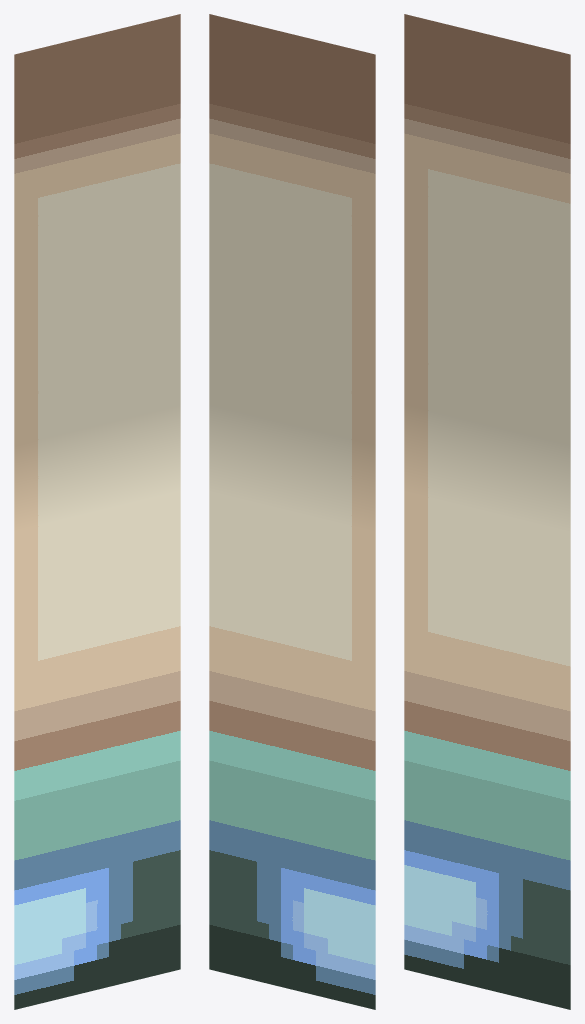
3 renders of one model, left to right at view 1: azimuth 30°, elevation 25°; view 2: azimuth 150°, elevation 25°; view 3: azimuth 330°, elevation 25°, orthographic.
Size of the model in its own units: 1 by 5.5 by 0.
Materials: 1 (1 with a texture image).
